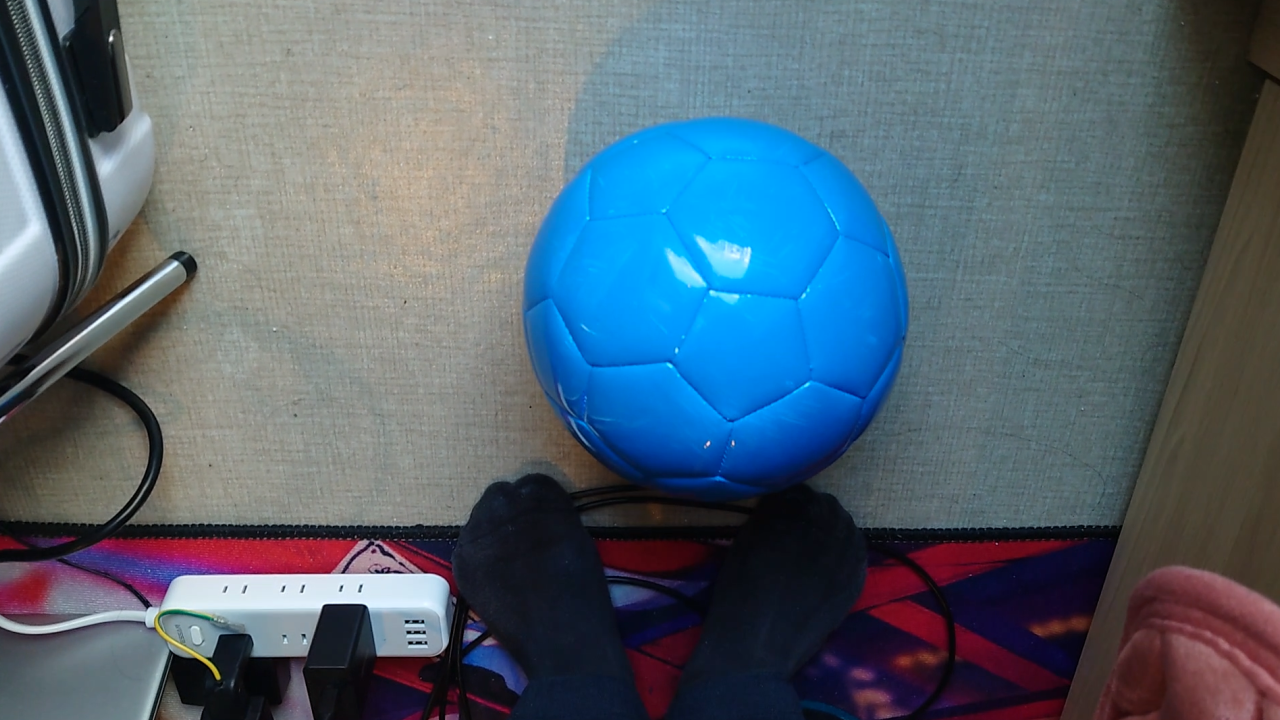BlueBall: (511, 103, 913, 506)
